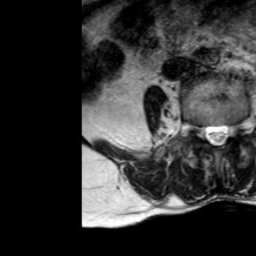CCS_normal: (212, 113, 220, 155)
LFS_normal: (230, 111, 240, 144)
LLS_normal: (220, 113, 230, 150)
RFS_normal: (193, 114, 203, 146)
RLS_normal: (203, 114, 212, 150)
